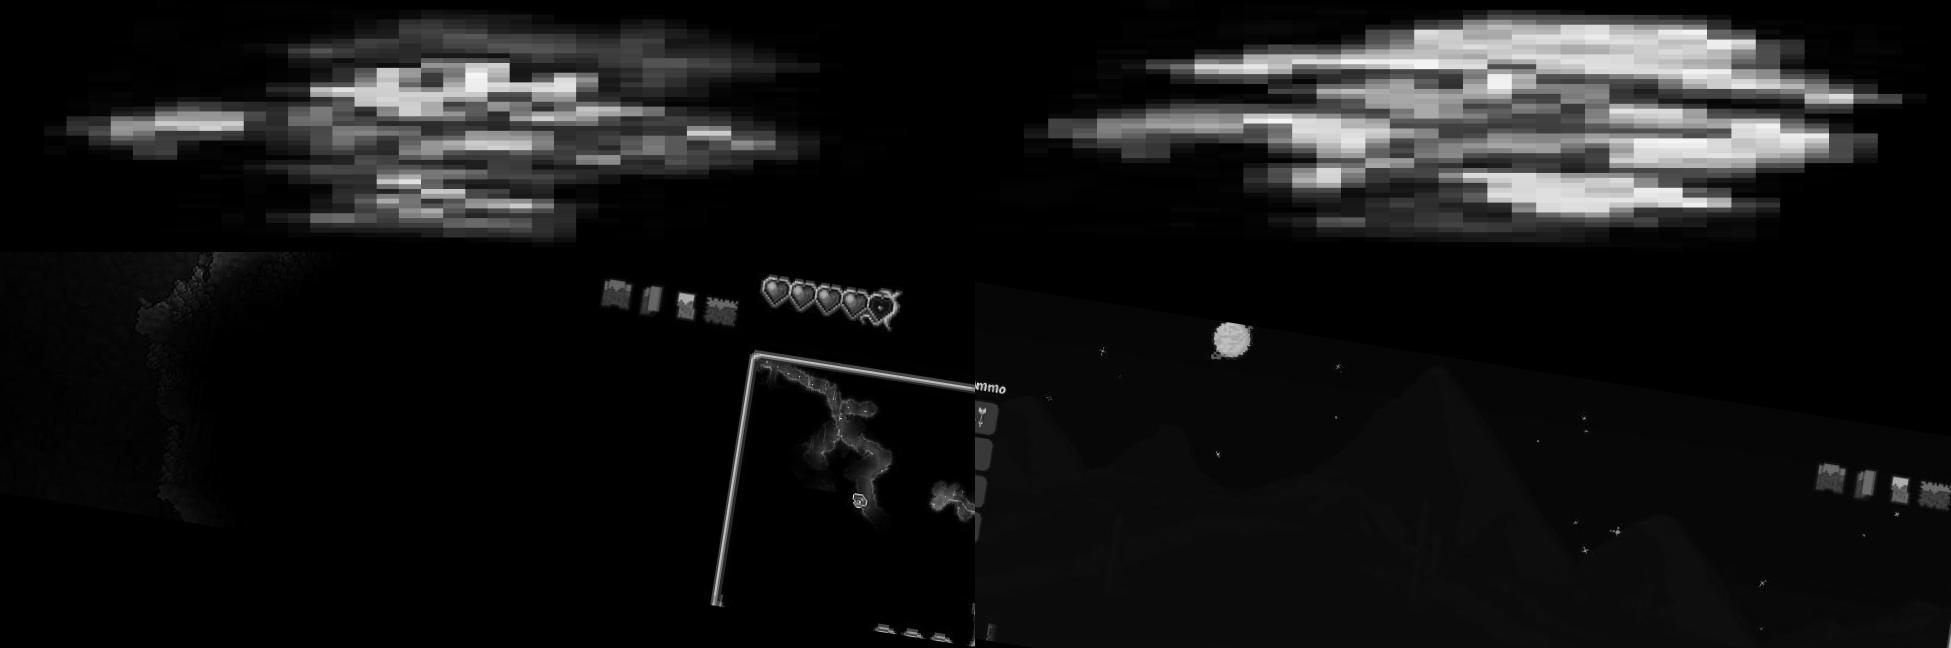heart: (758, 272, 794, 308)
zombie: (0, 0, 975, 252), (975, 0, 1951, 252)
